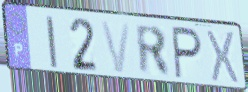2: (68, 16, 99, 73)
I: (43, 15, 60, 70)
P: (170, 25, 204, 82)
R: (133, 23, 173, 79)
V: (99, 19, 133, 75)
X: (205, 28, 240, 87)
